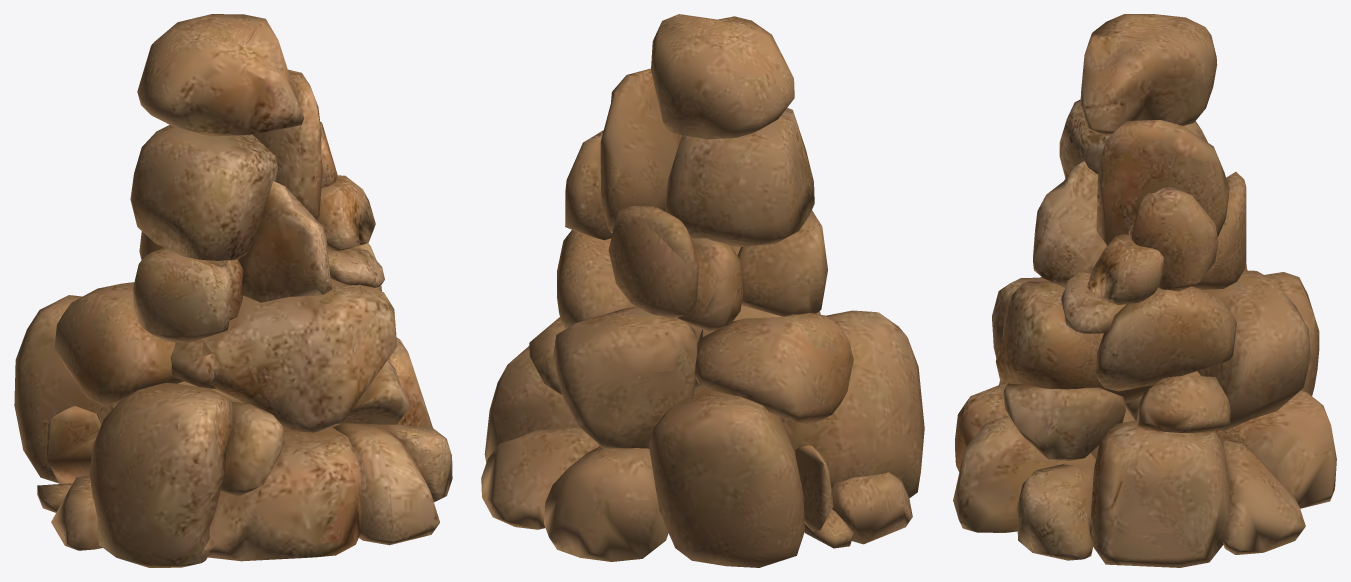
Rendered from RockFormation1_ST-optimized.glb.
3 renders of one model, left to right at view 1: azimuth 30°, elevation 25°; view 2: azimuth 150°, elevation 25°; view 3: azimuth 270°, elevation 25°, orthographic. The views are drawn at different scales.
Visible parts, largest first — view 1: mesh_node; view 2: mesh_node; view 3: mesh_node.
Part boxes in pixels (x1=…): mesh_node: x1=14, y1=14, x2=452, y2=567; mesh_node: x1=481, y1=14, x2=924, y2=567; mesh_node: x1=953, y1=14, x2=1336, y2=567.
Bounding box in the file's own units: 1.7 × 2 × 1.55.
1 material, 1 textured.
